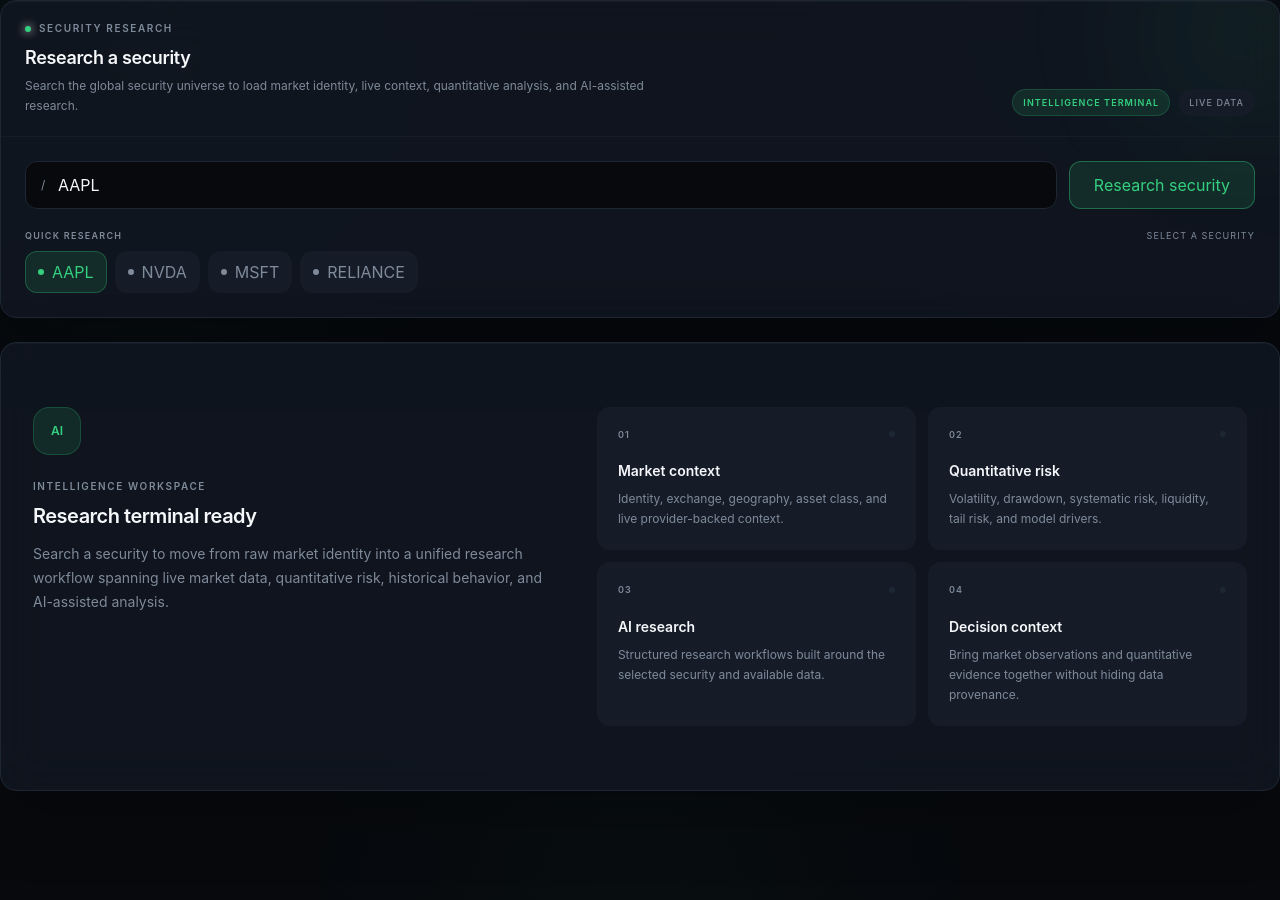
Test: ResearchWorkspace › shows an API error when the security lookup fails
The image size is (1280, 900).
Click the button "Research security" at (1162, 185), box top-left (1069, 161), bottom-right (1255, 209)
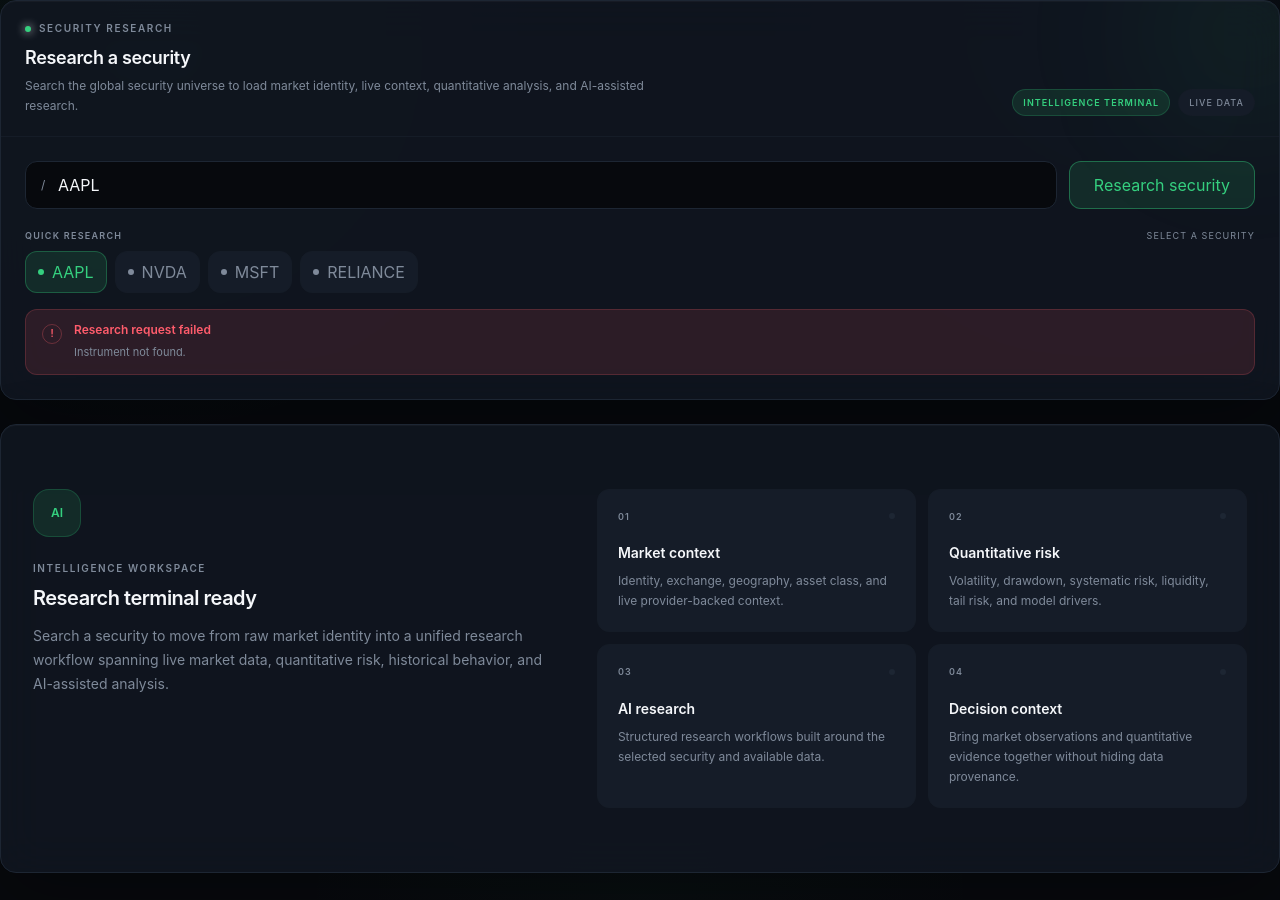
Check: the text "Instrument not found." is shown, box top-left (74, 344), bottom-right (186, 358)
Check: the message "! Research request failed Instrument not found." is shown, box top-left (25, 308), bottom-right (1255, 374)
